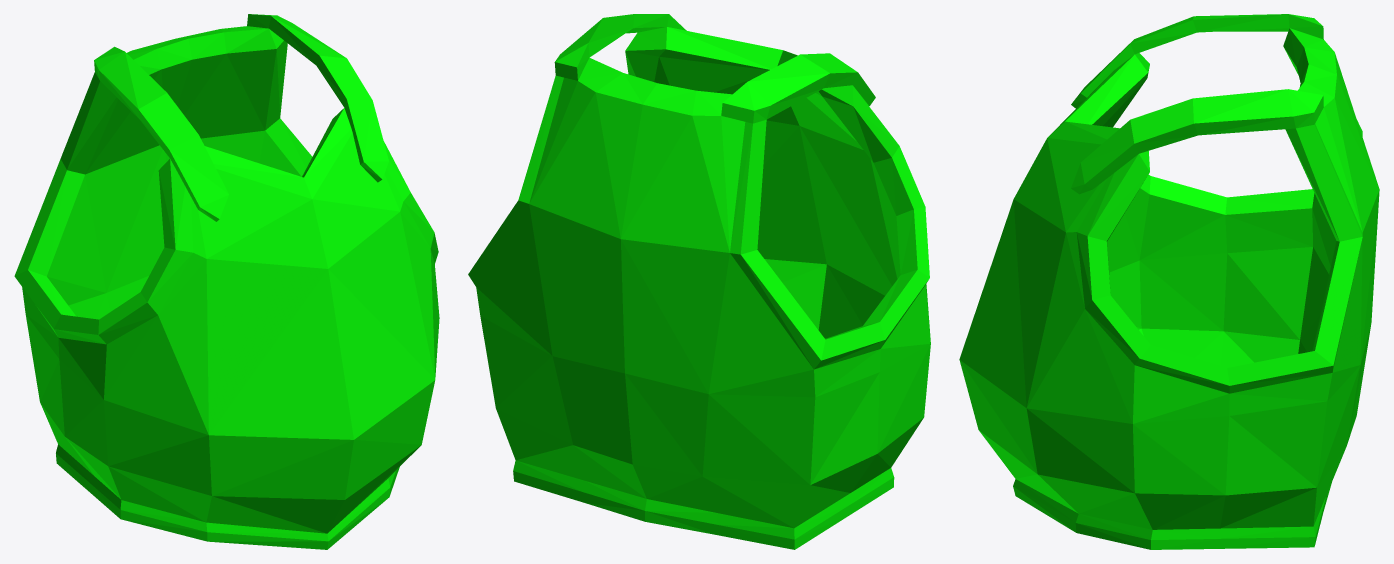
File: SM_Armor_Torso_A_Hanging_Fantasy.fbx
3 views of the same model, side by side, from view 1: azimuth 30°, elevation 25°; view 2: azimuth 150°, elevation 25°; view 3: azimuth 270°, elevation 25° (orthographic). The views are drawn at different scales.
Parts seen in each view (by area): view 1: armor-torso-a-hanging-fantasy; view 2: armor-torso-a-hanging-fantasy; view 3: armor-torso-a-hanging-fantasy.
Boxes of the visible parts, left/top/right/bottom form: armor-torso-a-hanging-fantasy: left=14, top=14, right=439, bottom=549; armor-torso-a-hanging-fantasy: left=468, top=14, right=930, bottom=549; armor-torso-a-hanging-fantasy: left=959, top=14, right=1379, bottom=549.
Bounding box in the file's own units: 0.3699 × 0.4356 × 0.371.
